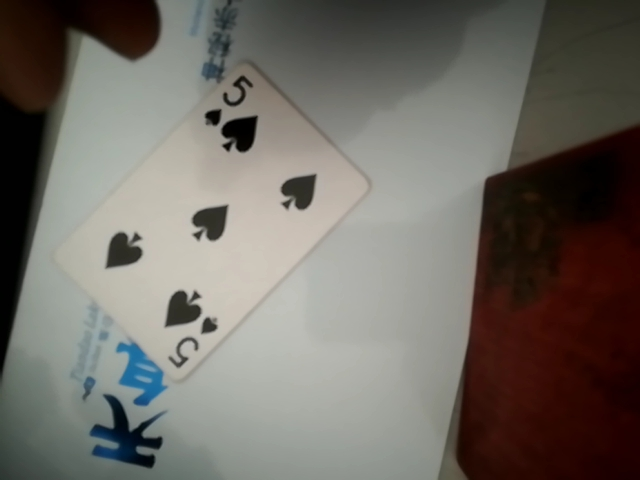ht 5: (60, 47, 359, 376)
